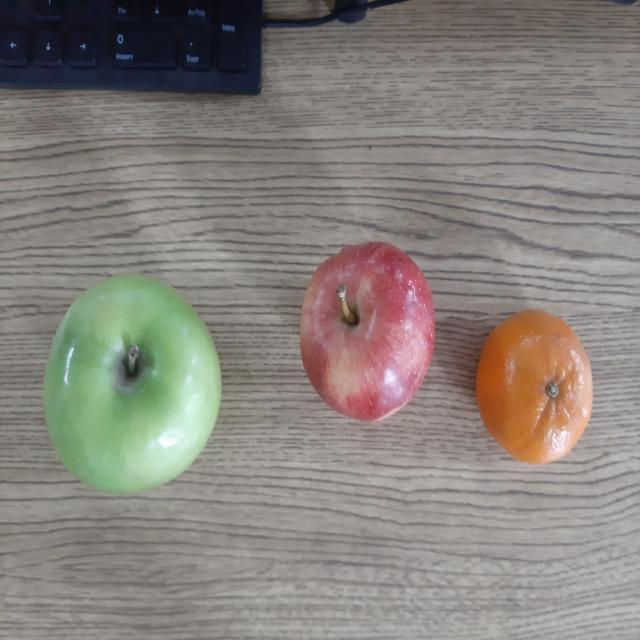Apel Gala: (299, 240, 438, 426)
Apel Granny Smith: (45, 265, 224, 496)
Jeruk Mandarin: (474, 308, 594, 466)
